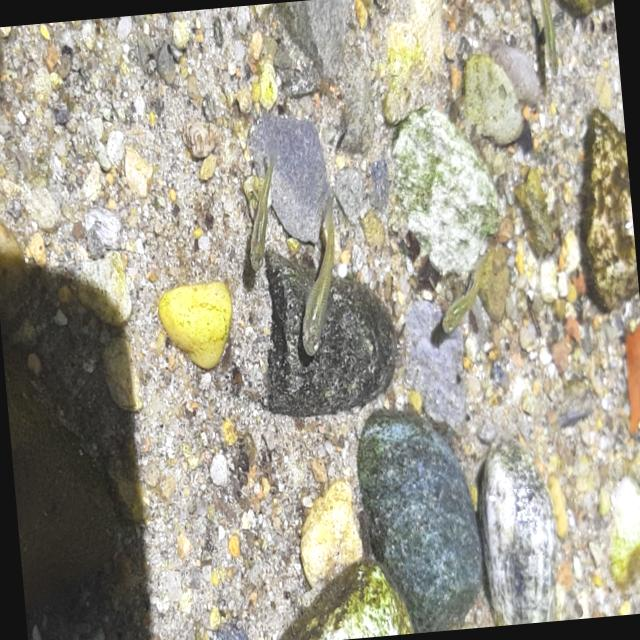Sivrisinek Baligi: (286, 203, 349, 359), (236, 158, 284, 274), (436, 269, 496, 342), (529, 0, 568, 80)
